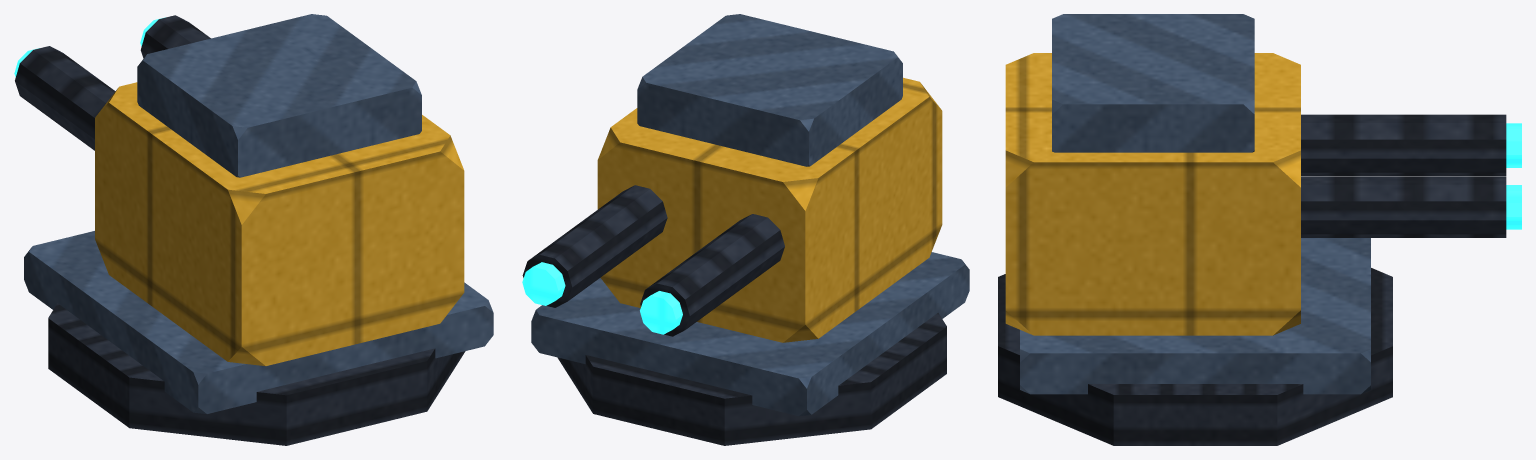
Rendered from eq_mining_basic.glb.
3 renders of one model, left to right at view 1: azimuth 30°, elevation 25°; view 2: azimuth 150°, elevation 25°; view 3: azimuth 270°, elevation 25°, orthographic. The views are drawn at different scales.
Visible parts, largest first — view 1: eq_mining_basic; view 2: eq_mining_basic; view 3: eq_mining_basic.
Part boxes in pixels (left/top/right/bottom): eq_mining_basic: left=14, top=14, right=493, bottom=445; eq_mining_basic: left=522, top=14, right=969, bottom=445; eq_mining_basic: left=998, top=14, right=1521, bottom=445.
Bounding box in the file's own units: 1.4 × 1.19 × 1.86.
1 material, 1 textured.
